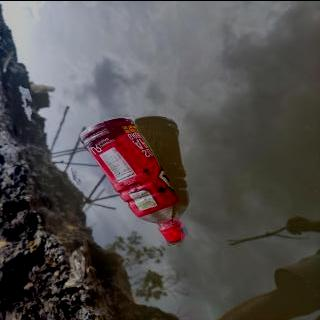bottle: (76, 114, 190, 244)
